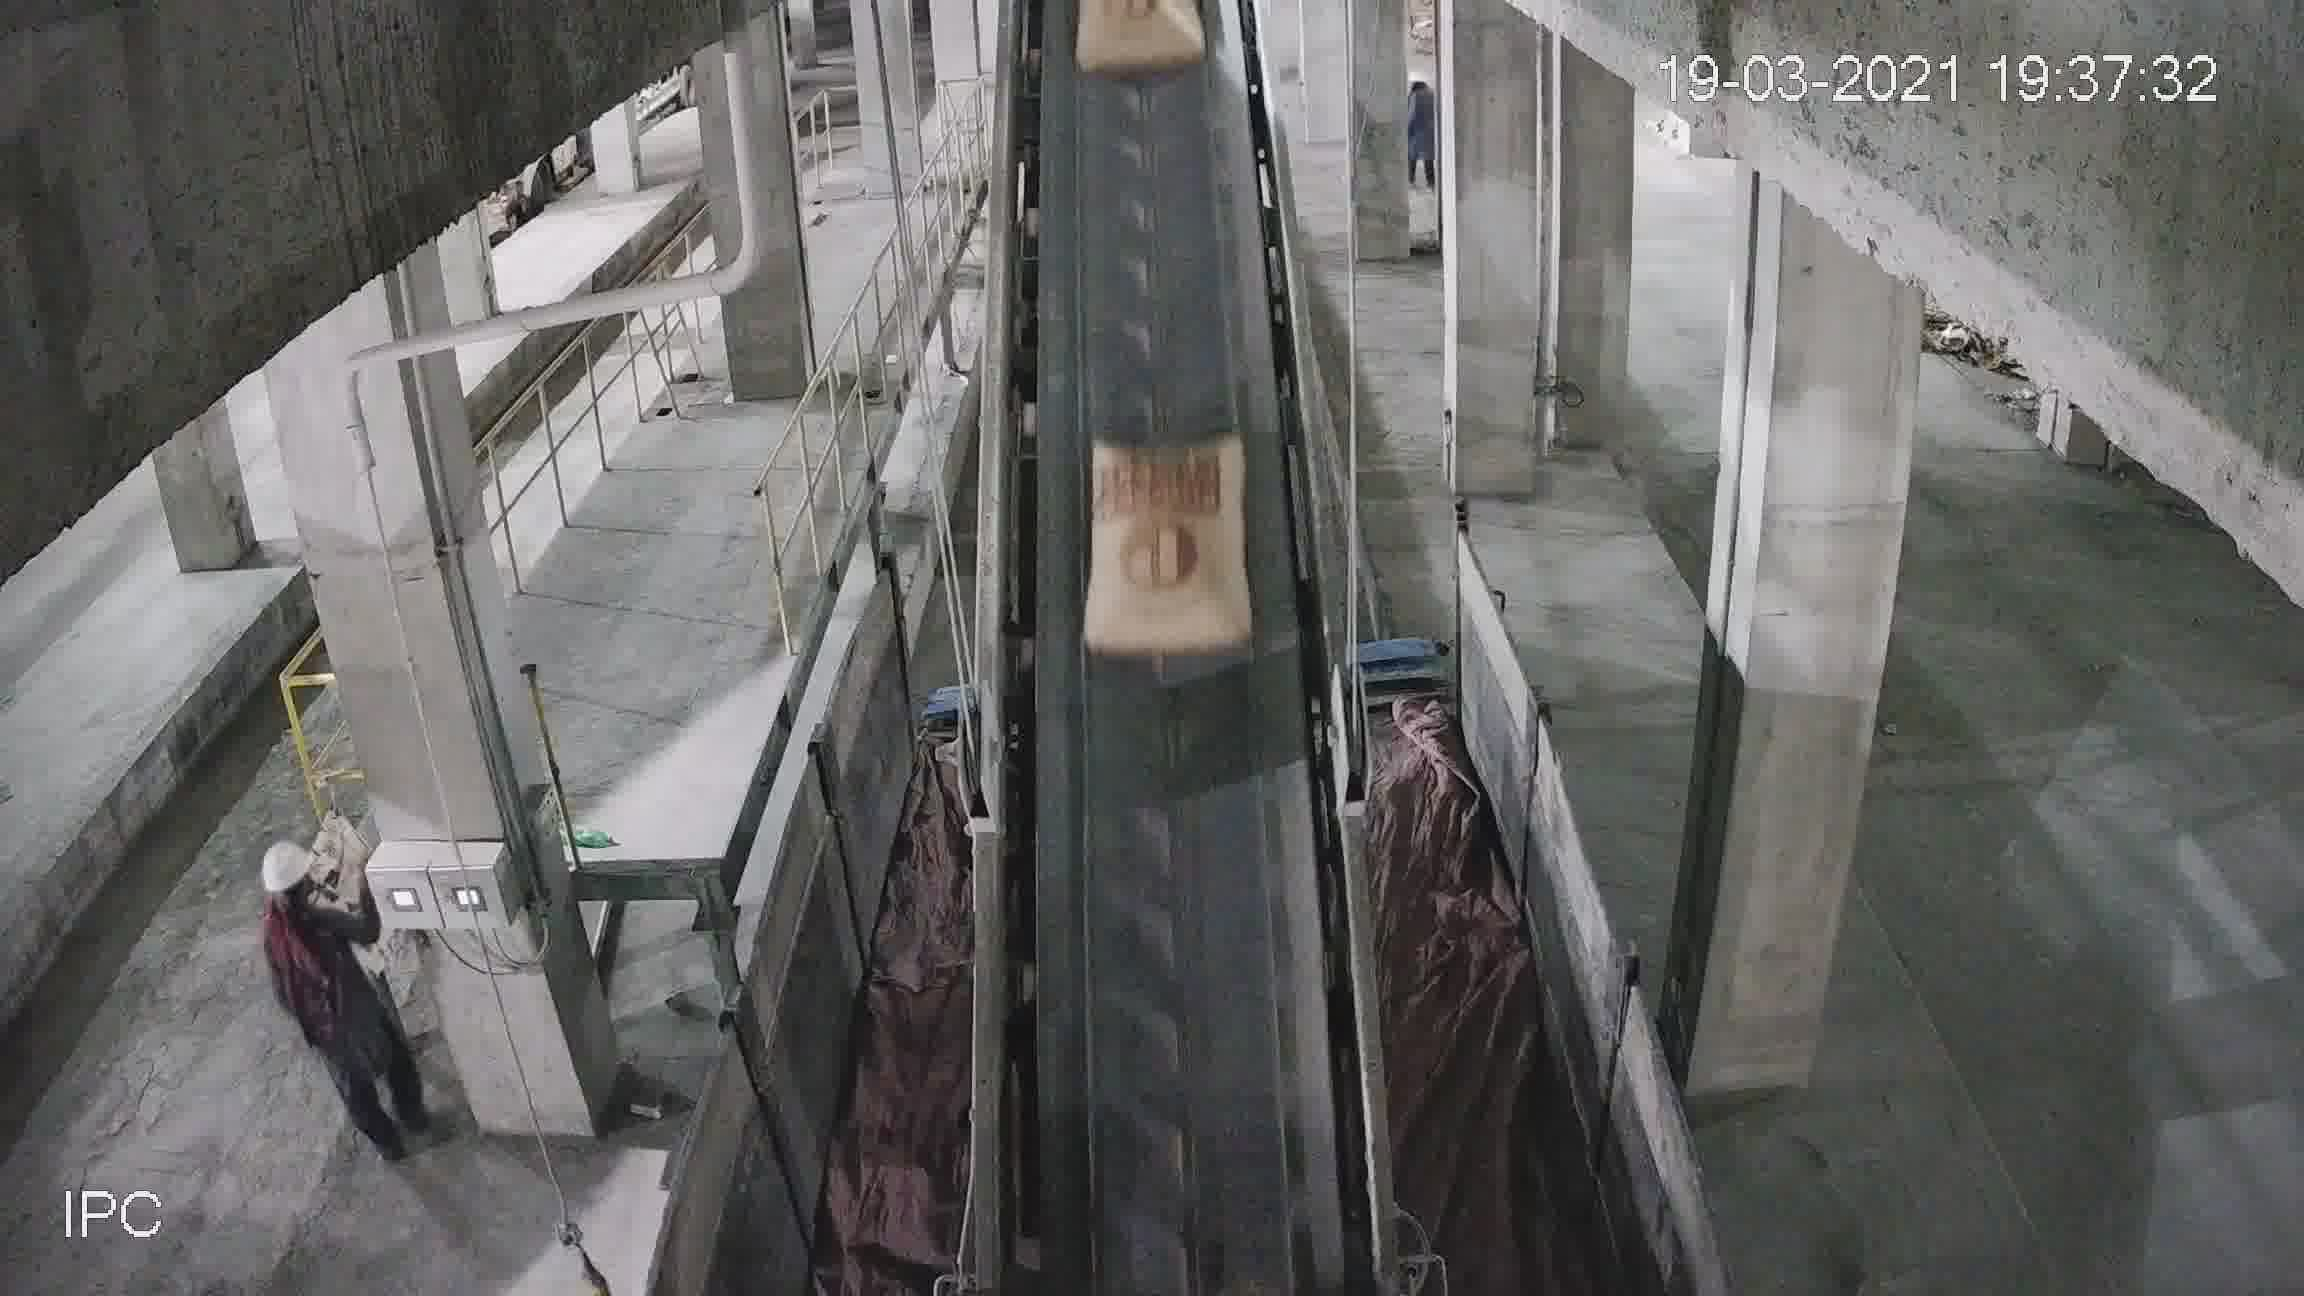bag: (1084, 434, 1252, 654), (1067, 16, 1222, 60)
belt: (983, 6, 1366, 1176)
